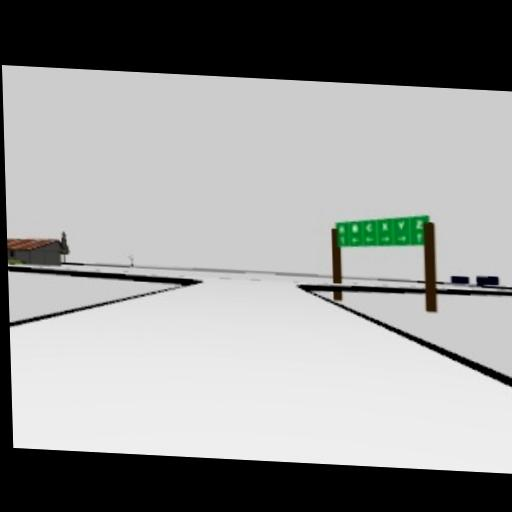A: (339, 223, 346, 234)
B: (351, 223, 359, 233)
C: (365, 222, 373, 232)
Left: (350, 235, 361, 243), (365, 235, 374, 243)
Right: (396, 234, 407, 241), (381, 234, 390, 241)
Straight: (416, 230, 423, 243), (339, 233, 346, 244)
X: (381, 220, 389, 231)
Y: (397, 219, 405, 230)
Z: (415, 218, 423, 229)
